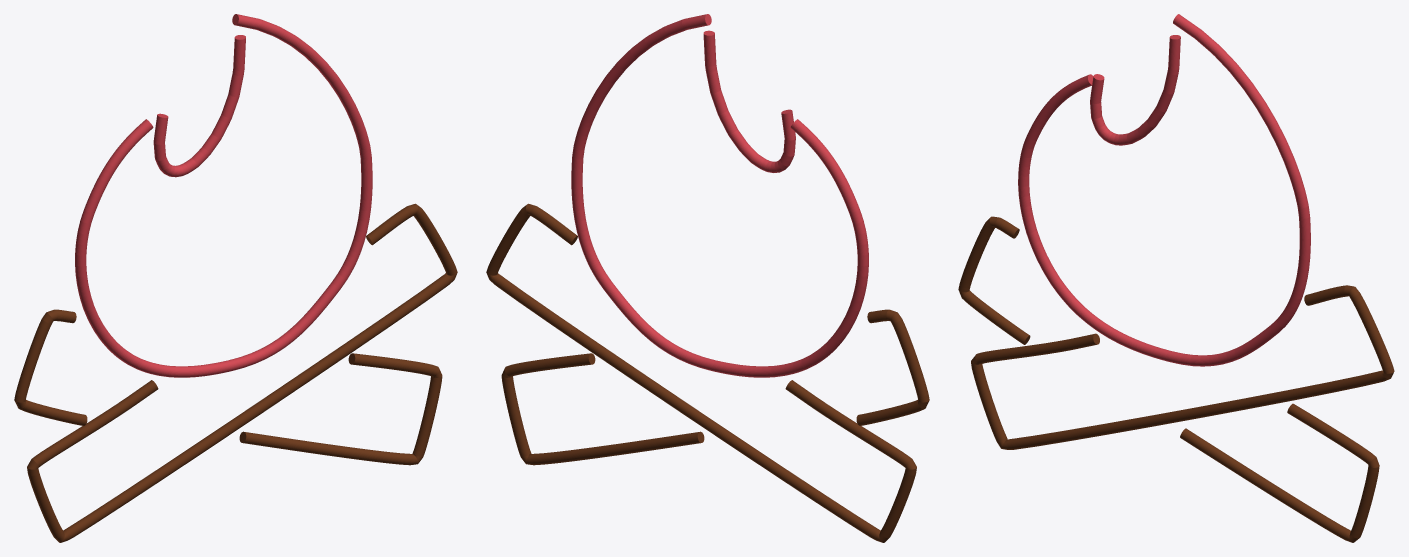
File: Neon_Timber.fbx
3 renders of one model, left to right at view 1: azimuth 30°, elevation 25°; view 2: azimuth 150°, elevation 25°; view 3: azimuth 330°, elevation 25°, orthographic.
Parts seen in each view (by area): view 1: Cylinder, Cylinder.003, Cylinder.005, Cylinder.002, Cylinder.004; view 2: Cylinder, Cylinder.003, Cylinder.005, Cylinder.002, Cylinder.004; view 3: Cylinder, Cylinder.003, Cylinder.005, Cylinder.002, Cylinder.004.
Boxes of the visible parts, left/top/right/bottom form: Cylinder: left=75, top=14, right=372, bottom=377; Cylinder.003: left=27, top=203, right=457, bottom=542; Cylinder.005: left=239, top=353, right=442, bottom=465; Cylinder.002: left=153, top=35, right=245, bottom=177; Cylinder.004: left=14, top=309, right=87, bottom=425; Cylinder: left=571, top=14, right=868, bottom=377; Cylinder.003: left=486, top=203, right=916, bottom=542; Cylinder.005: left=501, top=353, right=704, bottom=465; Cylinder.002: left=703, top=30, right=795, bottom=172; Cylinder.004: left=856, top=309, right=929, bottom=425; Cylinder: left=1018, top=14, right=1310, bottom=366; Cylinder.003: left=971, top=285, right=1394, bottom=449; Cylinder.005: left=1180, top=403, right=1379, bottom=542; Cylinder.002: left=1090, top=35, right=1180, bottom=145; Cylinder.004: left=958, top=216, right=1030, bottom=344.
Bounding box in the file's own units: 894 × 953 × 29.83.
